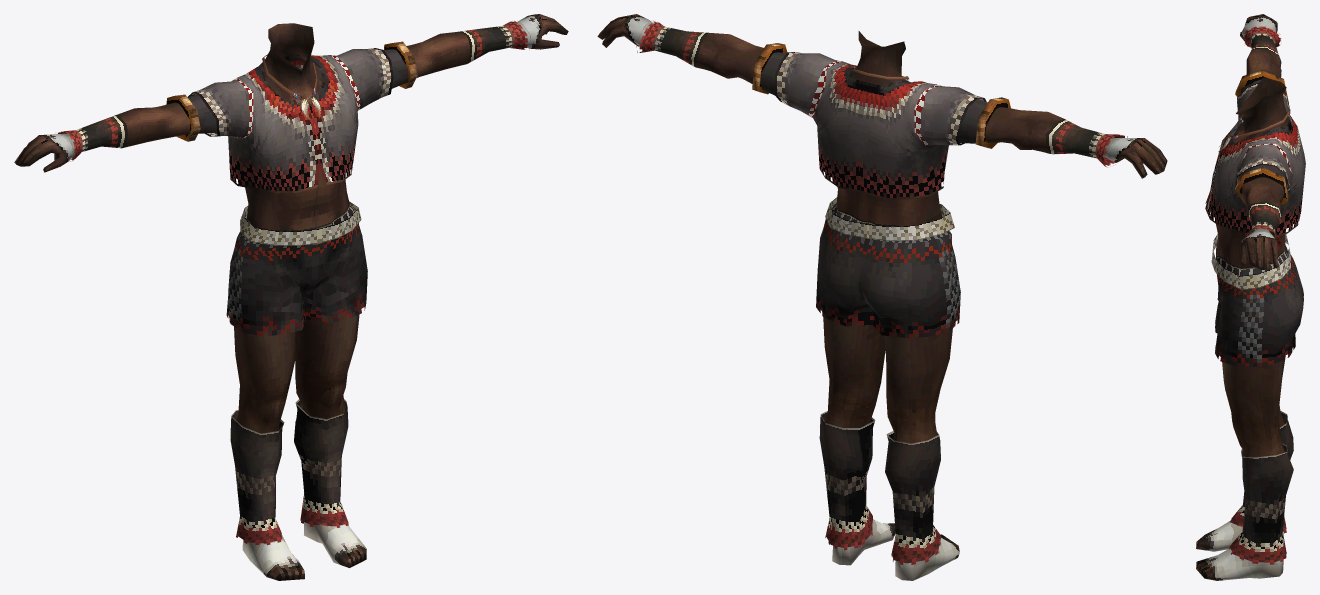
The model's file is m_body029.obj.
3 renders of one model, left to right at view 1: azimuth 30°, elevation 25°; view 2: azimuth 150°, elevation 25°; view 3: azimuth 270°, elevation 25°, orthographic. The views are drawn at different scales.
Parts seen in each view (by area): view 1: editpl_m-0000-8, editpl_m-0000-7, editpl_m-0000-6; view 2: editpl_m-0000-8, editpl_m-0000-7, editpl_m-0000-6; view 3: editpl_m-0000-8, editpl_m-0000-7, editpl_m-0000-6.
Boxes of the visible parts, bbox=[...] form: editpl_m-0000-8: bbox=[226, 201, 367, 580]; editpl_m-0000-7: bbox=[187, 23, 408, 230]; editpl_m-0000-6: bbox=[14, 14, 568, 172]; editpl_m-0000-8: bbox=[816, 197, 960, 580]; editpl_m-0000-7: bbox=[760, 31, 987, 226]; editpl_m-0000-6: bbox=[597, 14, 1167, 178]; editpl_m-0000-8: bbox=[1196, 234, 1303, 580]; editpl_m-0000-7: bbox=[1205, 77, 1305, 268]; editpl_m-0000-6: bbox=[1235, 14, 1288, 269].
Bounding box in the file's own units: 177 × 159 × 33.49.
Materials: 3 (3 with a texture image).
